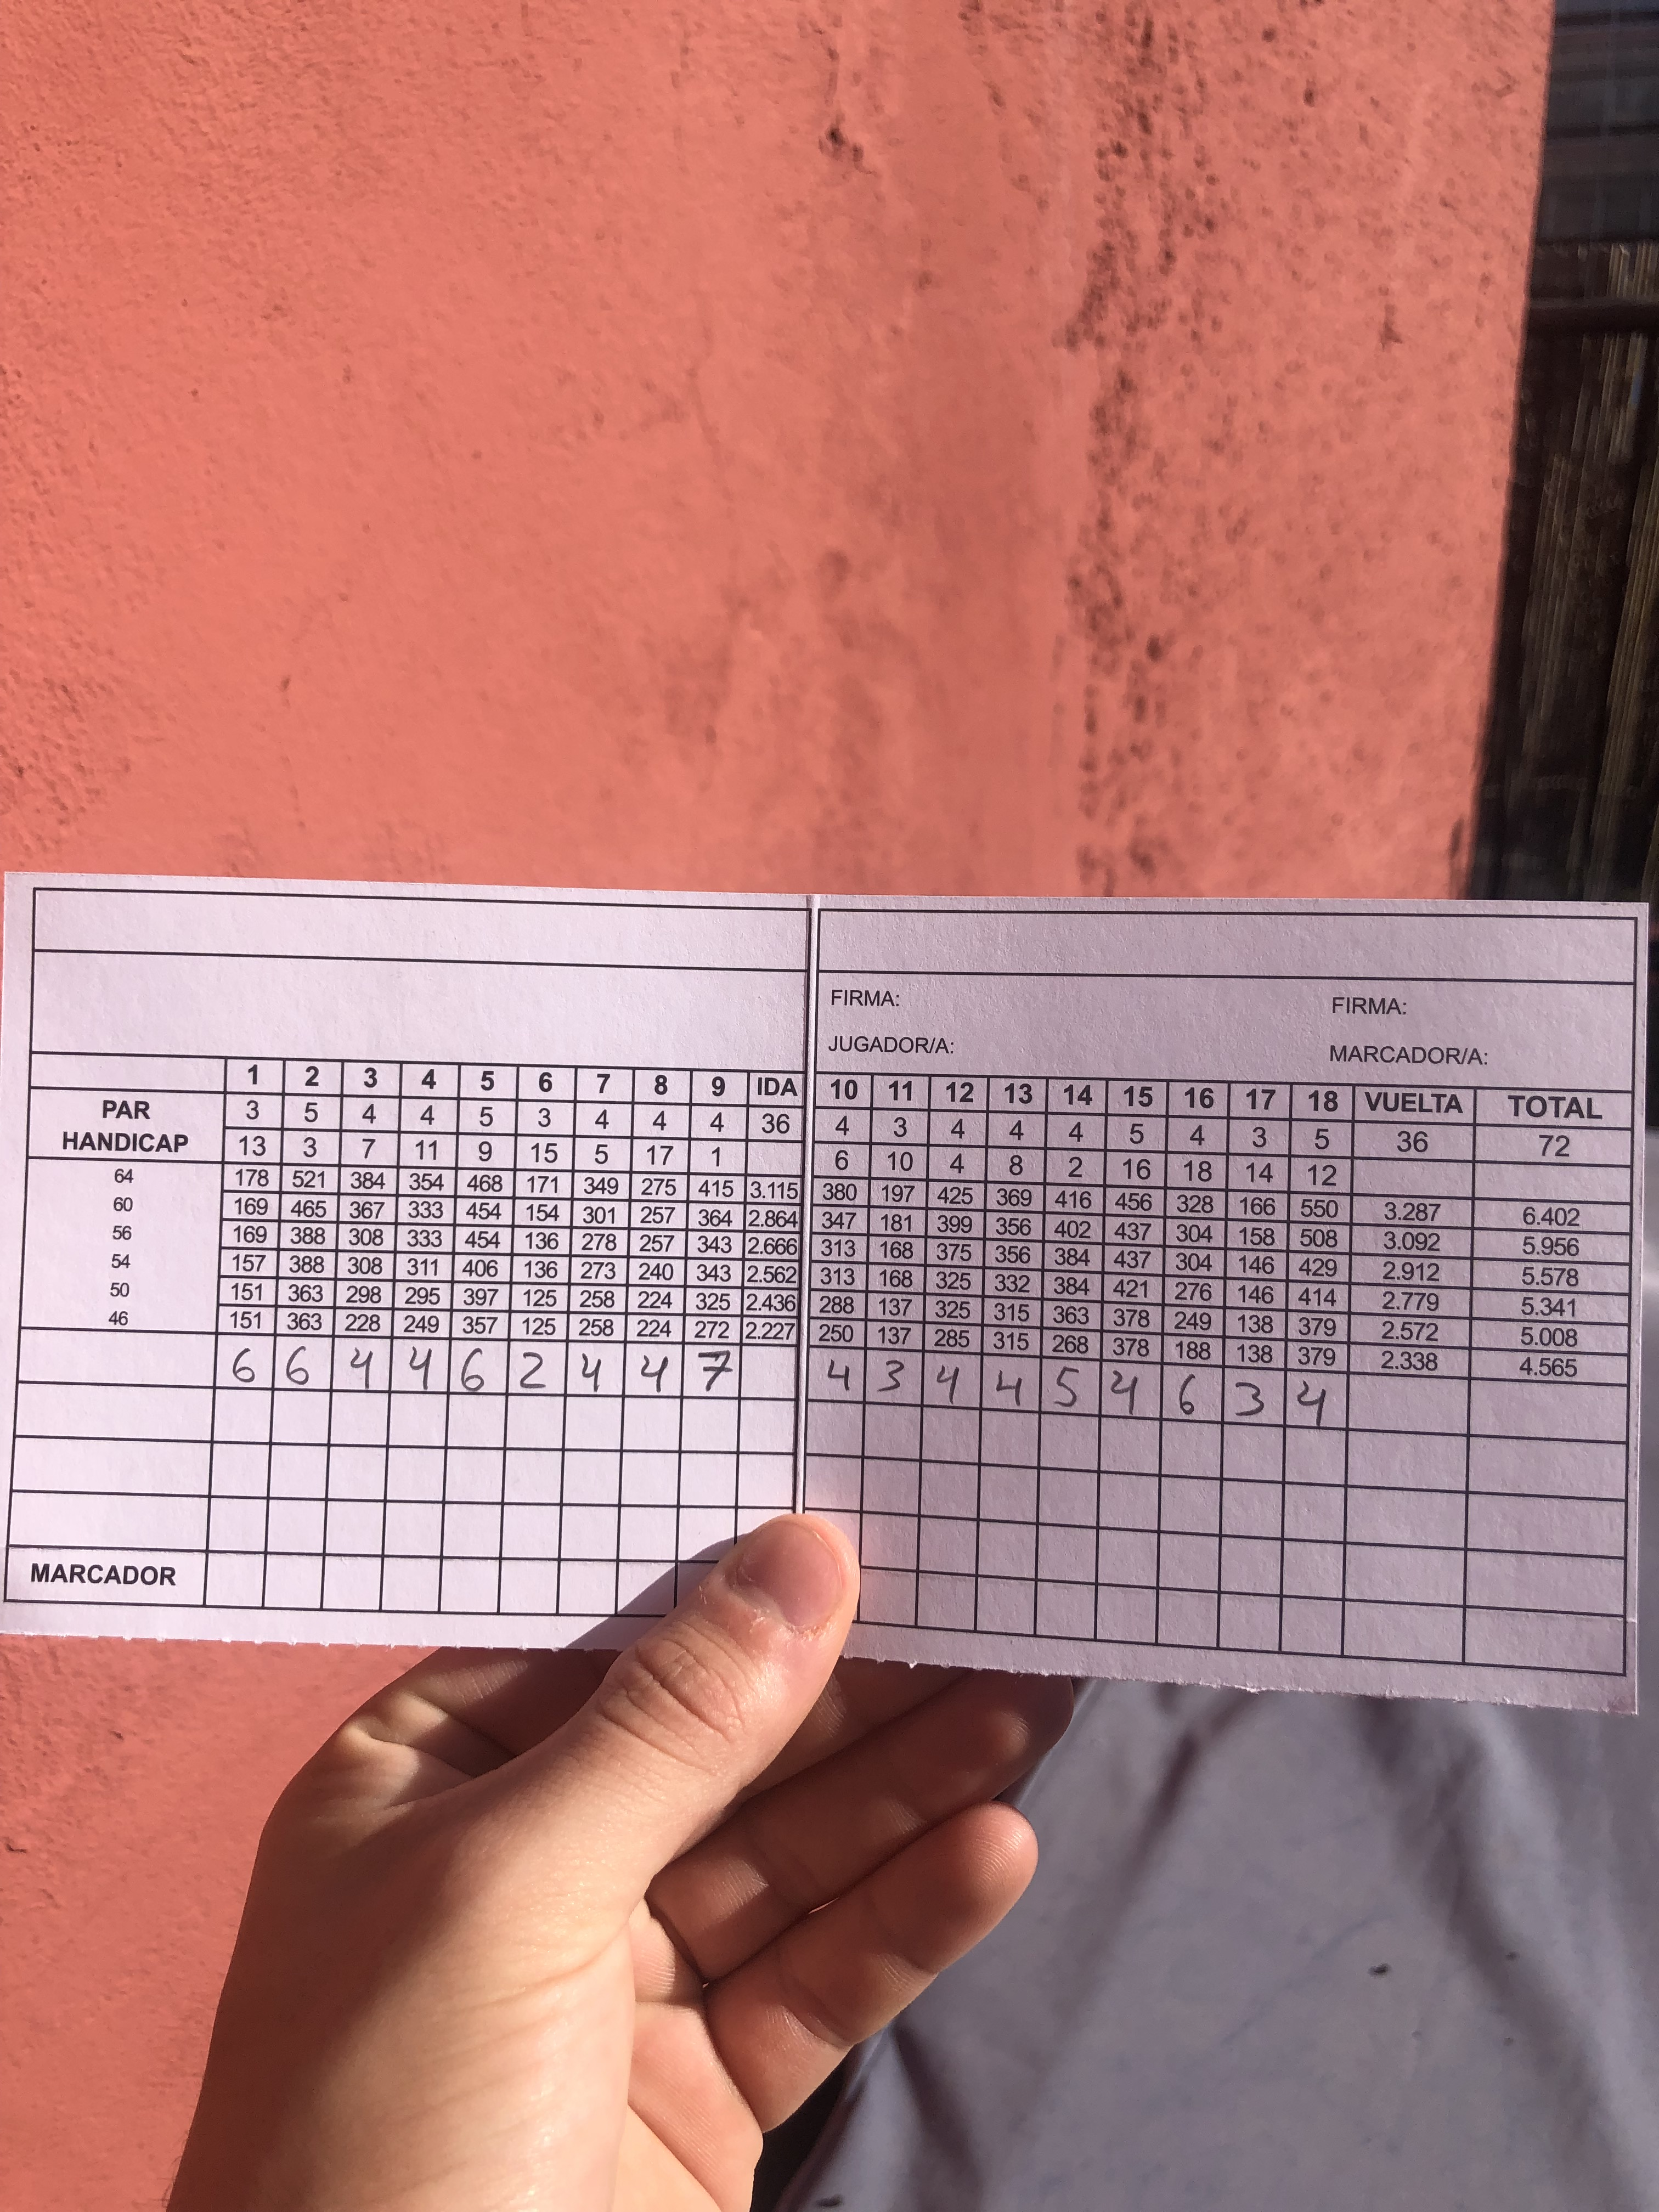par: (99, 1099, 1574, 1160)
score: (235, 1352, 1335, 1428)
